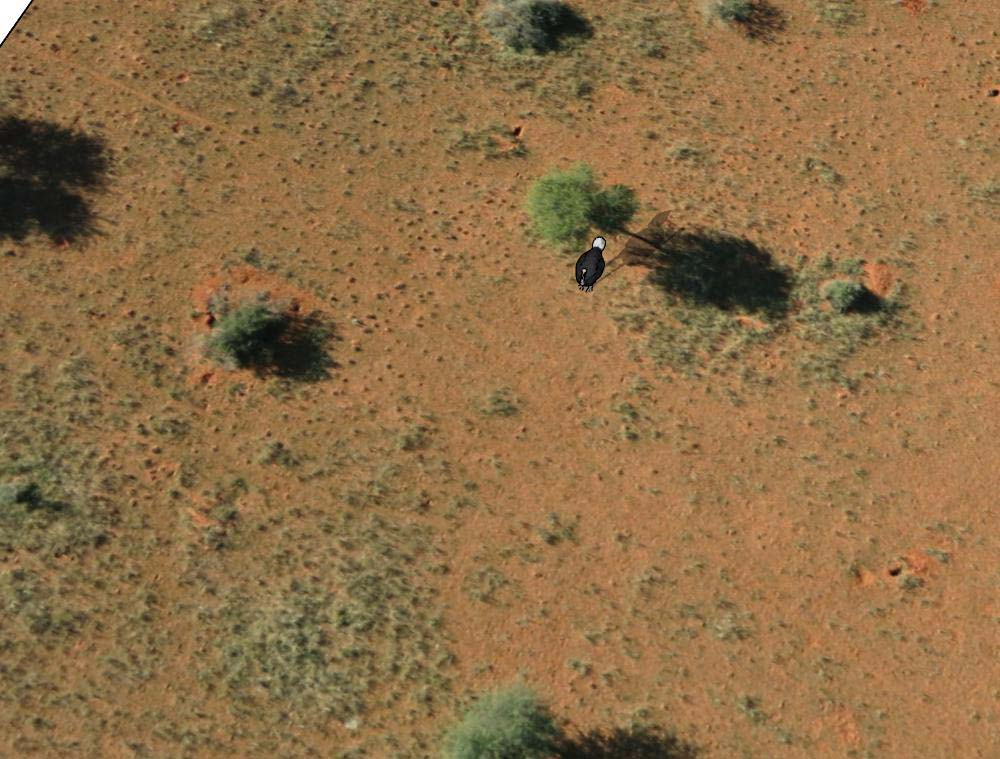springbok: (569, 237, 609, 293)
